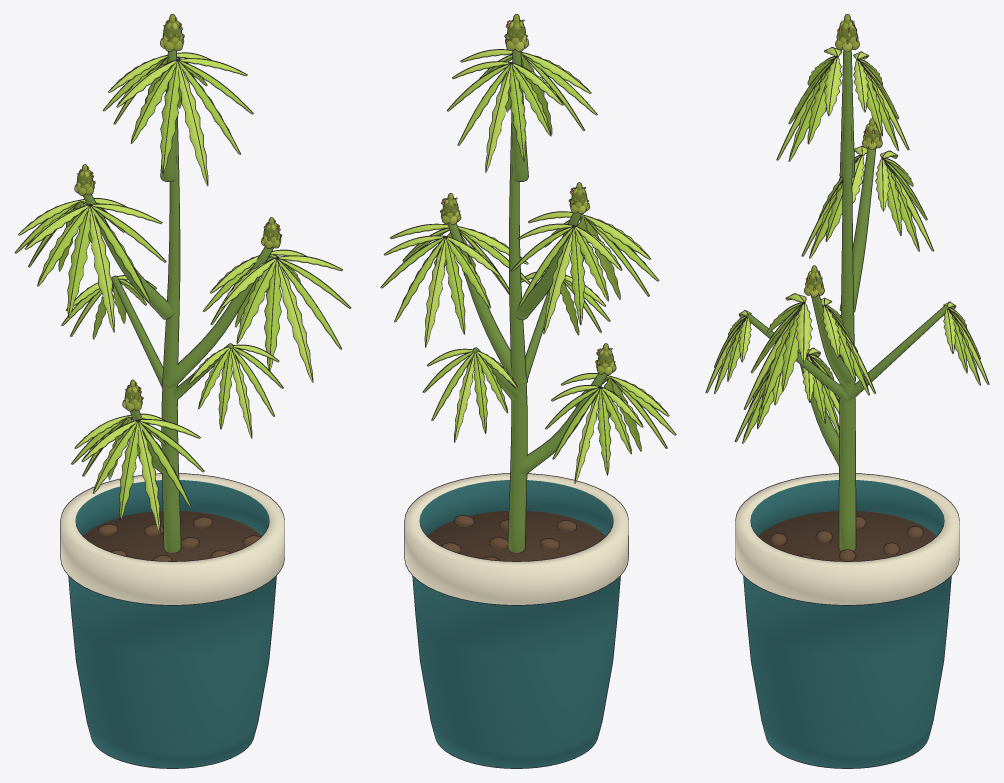
The model's file is cannabis_elancee_growing_toon.glb.
3 renders of one model, left to right at view 1: azimuth 30°, elevation 25°; view 2: azimuth 150°, elevation 25°; view 3: azimuth 270°, elevation 25°, orthographic.
Visible parts, largest first — view 1: cannabis_elancee_growing_Geometry; view 2: cannabis_elancee_growing_Geometry; view 3: cannabis_elancee_growing_Geometry.
Boxes of the visible parts, x1=… form: cannabis_elancee_growing_Geometry: x1=14, y1=14, x2=351, y2=768; cannabis_elancee_growing_Geometry: x1=380, y1=14, x2=676, y2=768; cannabis_elancee_growing_Geometry: x1=705, y1=14, x2=989, y2=768.
Size of the model in its own units: 0.4046 by 0.9606 by 0.3436.
